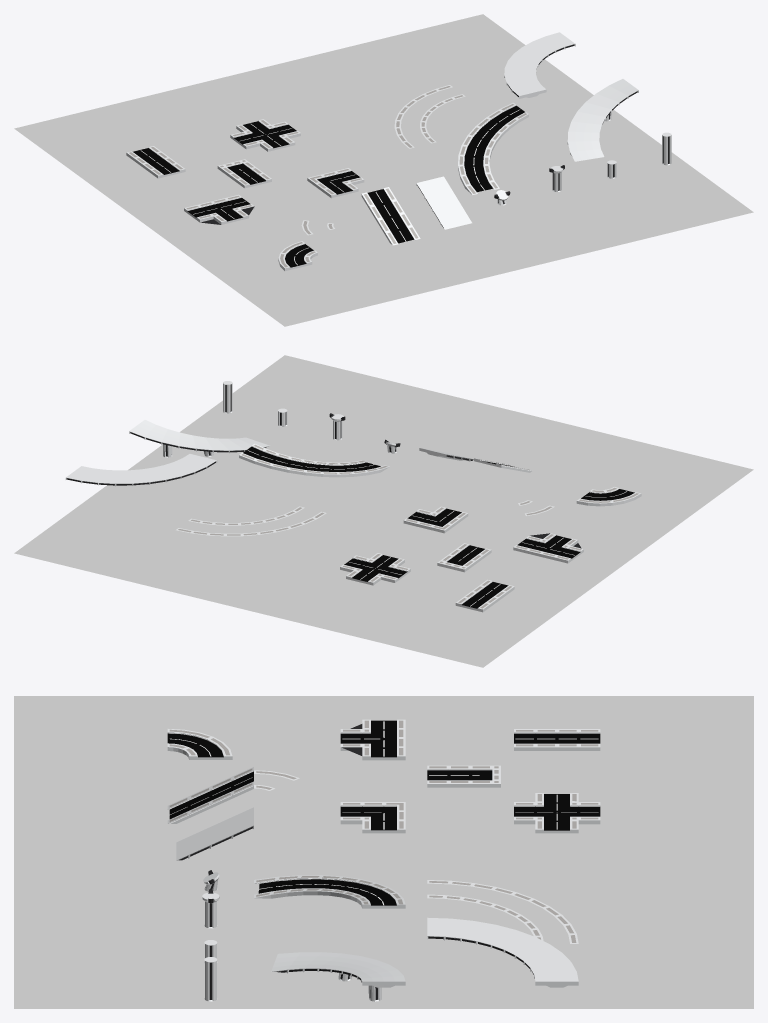
File: roads.glb
3 renders of one model, top to bottom at view 1: azimuth 30°, elevation 25°; view 2: azimuth 150°, elevation 25°; view 3: azimuth 270°, elevation 25°, orthographic. The views are drawn at different scales.
Visible parts, largest first — view 1: floor, Road90_2x2Up_Placeable_0, Road90_2x2upBridge_Placeable_0, Road90_2x2Bridge_Placeable_0, RoadForwardUp_Placeable_0, RoadX_Placeable_0, RoadUpBridge_Placeable_0, RoadT_Placeable_0, RoadAngle_Placeable_0, RoadForward_Placeable_0, RoadEnd_Placeable_0, Road90_2x2_Placeable_0 (+1 smaller); view 2: floor, Road90_2x2Bridge_Placeable_0, Road90_2x2Up_Placeable_0, Road90_2x2upBridge_Placeable_0, RoadX_Placeable_0, RoadT_Placeable_0, RoadAngle_Placeable_0, RoadForward_Placeable_0, Road90_2x2_Placeable_0, RoadEnd_Placeable_0, Road90_Placeable_0; view 3: floor, Road90_2x2Bridge_Placeable_0, Road90_2x2Up_Placeable_0, Road90_2x2upBridge_Placeable_0, RoadX_Placeable_0, RoadT_Placeable_0, RoadForwardUp_Placeable_0, RoadForward_Placeable_0, RoadAngle_Placeable_0, RoadEnd_Placeable_0, RoadUpBridge_Placeable_0, Road90_2x2_Placeable_0 (+2 smaller).
Part boxes in pixels (x1=…): floor: x1=14, y1=14, x2=753, y2=326; Road90_2x2Up_Placeable_0: x1=458, y1=102, x2=528, y2=194; Road90_2x2upBridge_Placeable_0: x1=567, y1=79, x2=638, y2=161; Road90_2x2Bridge_Placeable_0: x1=504, y1=32, x2=575, y2=98; RoadForwardUp_Placeable_0: x1=361, y1=187, x2=420, y2=245; RoadX_Placeable_0: x1=230, y1=119, x2=300, y2=151; RoadUpBridge_Placeable_0: x1=416, y1=176, x2=471, y2=229; RoadT_Placeable_0: x1=184, y1=194, x2=254, y2=224; RoadAngle_Placeable_0: x1=307, y1=168, x2=364, y2=198; RoadForward_Placeable_0: x1=126, y1=146, x2=185, y2=178; RoadEnd_Placeable_0: x1=217, y1=159, x2=271, y2=188; Road90_2x2_Placeable_0: x1=394, y1=85, x2=465, y2=148; floor: x1=14, y1=355, x2=753, y2=667; Road90_2x2Bridge_Placeable_0: x1=65, y1=454, x2=217, y2=486; Road90_2x2Up_Placeable_0: x1=239, y1=443, x2=389, y2=477; Road90_2x2upBridge_Placeable_0: x1=129, y1=420, x2=269, y2=452; RoadX_Placeable_0: x1=340, y1=553, x2=410, y2=585; RoadT_Placeable_0: x1=513, y1=533, x2=583, y2=563; RoadAngle_Placeable_0: x1=403, y1=506, x2=468, y2=533; RoadForward_Placeable_0: x1=455, y1=579, x2=514, y2=612; Road90_2x2_Placeable_0: x1=176, y1=506, x2=326, y2=536; RoadEnd_Placeable_0: x1=437, y1=543, x2=491, y2=572; Road90_Placeable_0: x1=576, y1=487, x2=641, y2=506; floor: x1=14, y1=696, x2=753, y2=1008; Road90_2x2Bridge_Placeable_0: x1=427, y1=917, x2=578, y2=987; Road90_2x2Up_Placeable_0: x1=254, y1=875, x2=405, y2=908; Road90_2x2upBridge_Placeable_0: x1=271, y1=952, x2=405, y2=987; RoadX_Placeable_0: x1=514, y1=793, x2=600, y2=833; RoadT_Placeable_0: x1=340, y1=719, x2=405, y2=760; RoadForwardUp_Placeable_0: x1=167, y1=767, x2=253, y2=823; RoadForward_Placeable_0: x1=514, y1=729, x2=600, y2=750; RoadAngle_Placeable_0: x1=340, y1=802, x2=405, y2=833; RoadEnd_Placeable_0: x1=427, y1=765, x2=500, y2=787; RoadUpBridge_Placeable_0: x1=176, y1=807, x2=253, y2=860; Road90_2x2_Placeable_0: x1=427, y1=880, x2=578, y2=943.
Bounding box in the file's own units: 175 × 12.51 × 171.
1 material, 1 textured.
